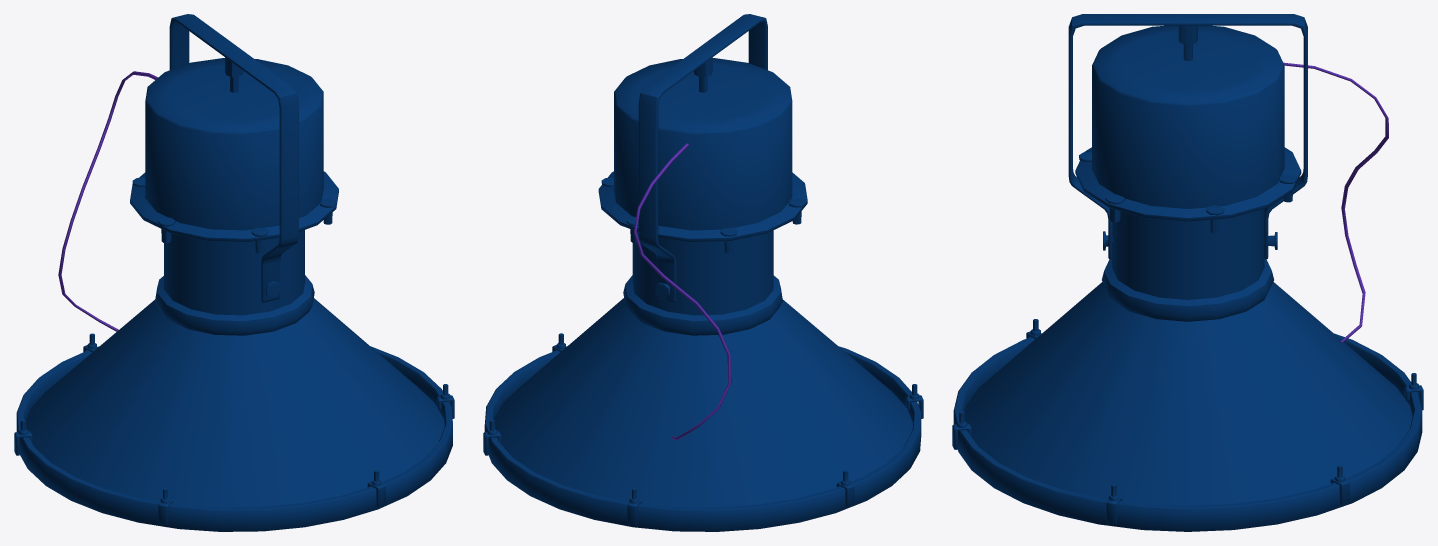
The model's file is House_Lamp_01.FBX.
3 renders of one model, left to right at view 1: azimuth 30°, elevation 25°; view 2: azimuth 150°, elevation 25°; view 3: azimuth 270°, elevation 25°, orthographic. The views are drawn at different scales.
Visible parts, largest first — view 1: House_Lamp_01_Metal, House_Lamp_01_Line; view 2: House_Lamp_01_Metal, House_Lamp_01_Line; view 3: House_Lamp_01_Metal, House_Lamp_01_Line.
Part boxes in pixels (left/top/right/bottom): House_Lamp_01_Metal: left=14, top=14, right=454, bottom=531; House_Lamp_01_Line: left=58, top=71, right=157, bottom=331; House_Lamp_01_Metal: left=483, top=14, right=923, bottom=531; House_Lamp_01_Line: left=633, top=143, right=731, bottom=440; House_Lamp_01_Metal: left=952, top=14, right=1423, bottom=531; House_Lamp_01_Line: left=1283, top=62, right=1388, bottom=342.
Bounding box in the file's own units: 57.37 × 56.06 × 57.71.
